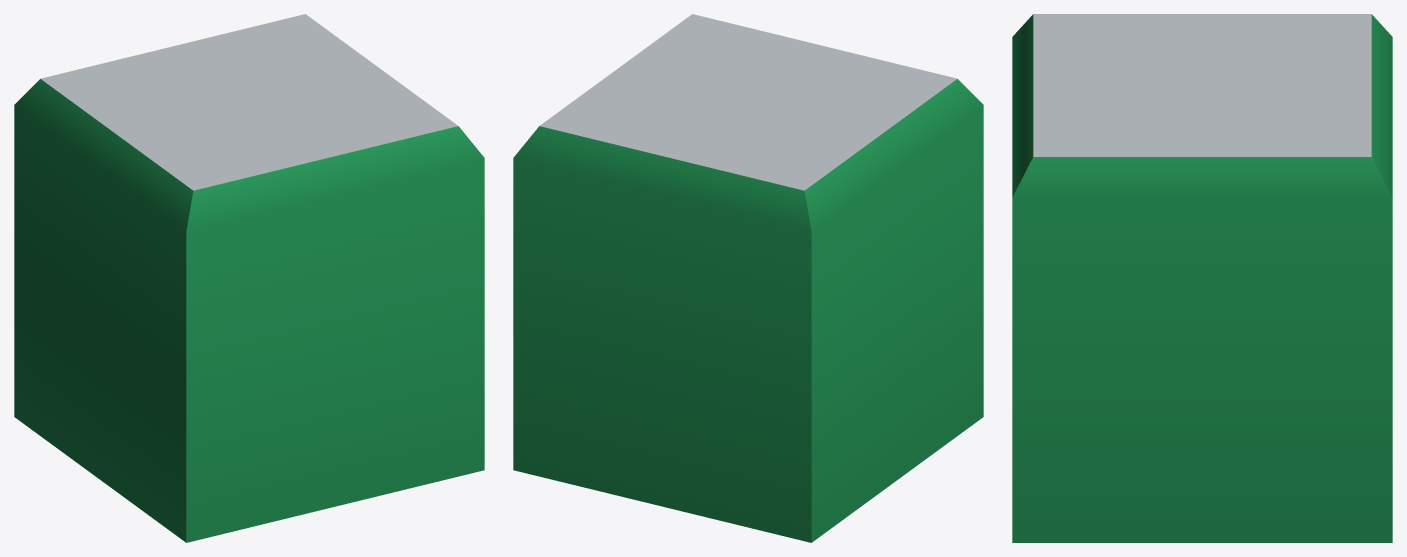
Rendered from puzzlecube_center_puzzlecube_E.glb.
3 views of the same model, side by side, from view 1: azimuth 30°, elevation 25°; view 2: azimuth 150°, elevation 25°; view 3: azimuth 270°, elevation 25° (orthographic). The views are drawn at different scales.
Parts seen in each view (by area): view 1: puzzlecube_E; view 2: puzzlecube_E; view 3: puzzlecube_E.
Boxes of the visible parts, x1,y1,x2,y2 form: puzzlecube_E: (14, 14, 484, 542); puzzlecube_E: (513, 14, 983, 542); puzzlecube_E: (1012, 14, 1392, 542).
Bounding box in the file's own units: 0.1333 × 0.1457 × 0.1333.
Materials: 1 (1 with a texture image).
